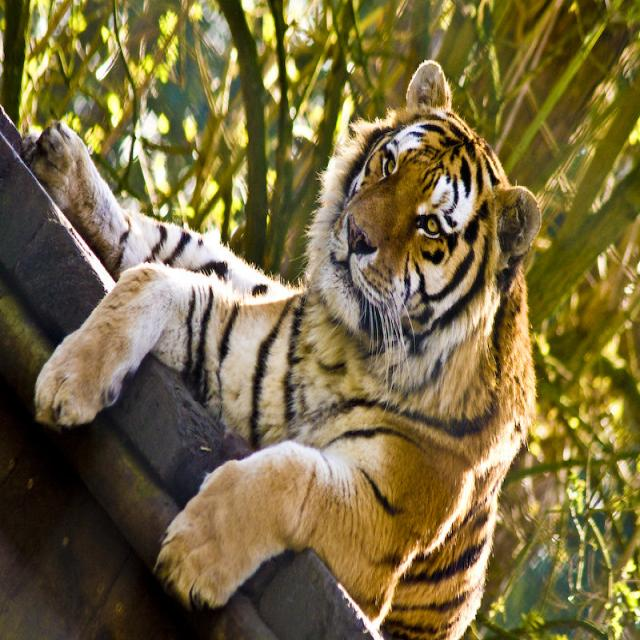Tiger: (17, 53, 542, 639)
